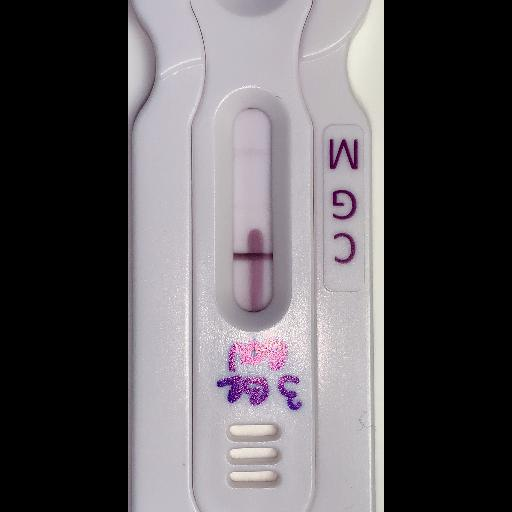Pos: (128, 0, 371, 511)
